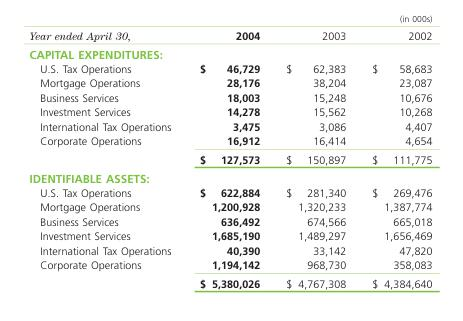table: (28, 28, 431, 289)
table column: (28, 28, 184, 289), (184, 28, 272, 289), (272, 28, 358, 289), (358, 28, 431, 289)
table column header: (28, 28, 431, 44)
table projected row header: (28, 44, 431, 61), (28, 168, 431, 185)
table row: (28, 149, 431, 168), (28, 44, 431, 61), (28, 168, 431, 185), (28, 28, 431, 44), (28, 133, 431, 149), (28, 257, 431, 273), (28, 273, 431, 289), (28, 89, 431, 104), (28, 118, 431, 133), (28, 213, 431, 228), (28, 242, 431, 257), (28, 61, 431, 75), (28, 75, 431, 89), (28, 104, 431, 118), (28, 185, 431, 199), (28, 199, 431, 213), (28, 228, 431, 242)
